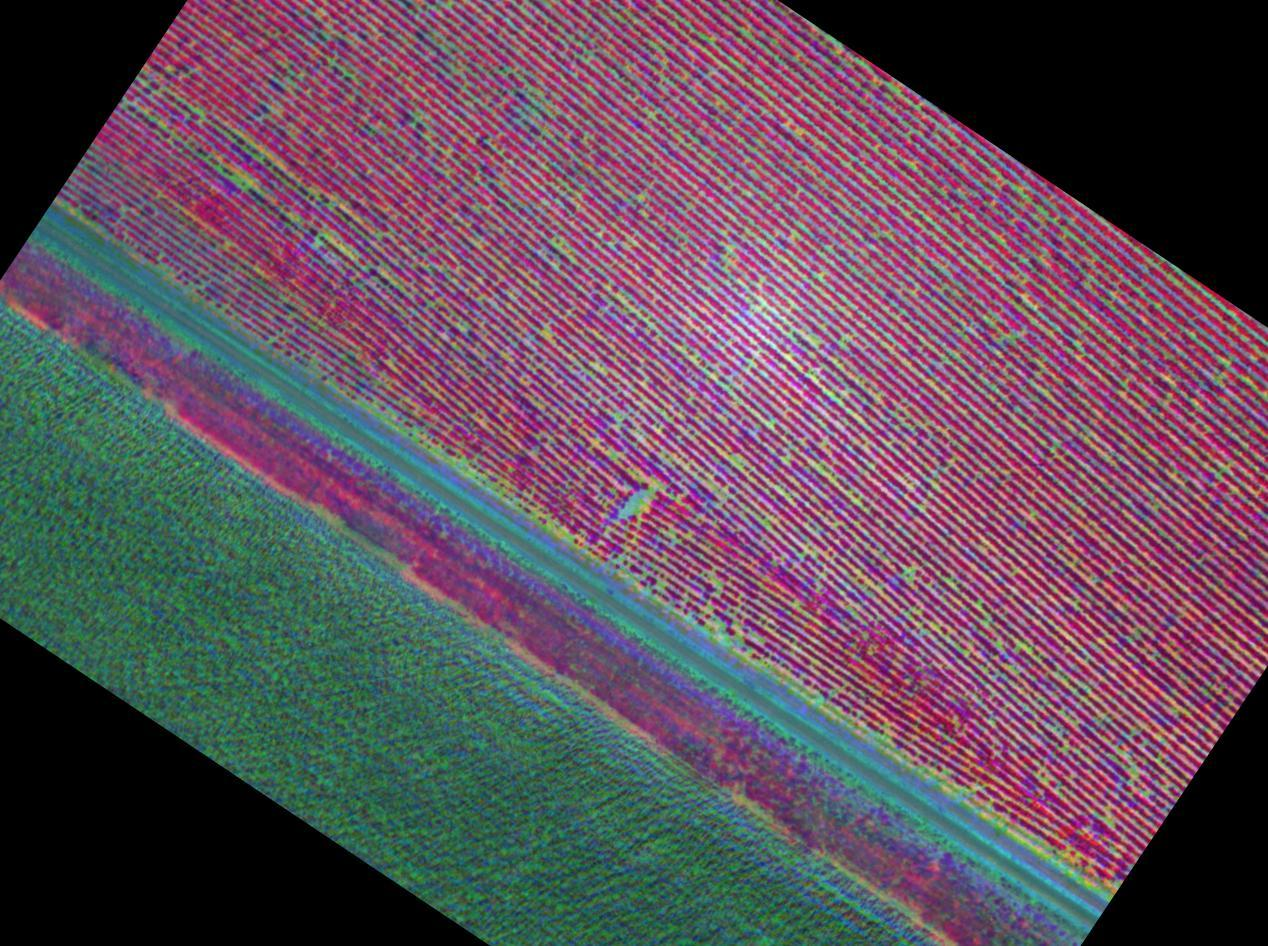dc: (731, 456, 737, 462), (233, 177, 238, 183), (629, 508, 634, 514), (415, 115, 420, 120), (726, 247, 731, 252), (642, 493, 647, 498), (316, 240, 320, 245), (836, 399, 841, 403), (816, 465, 820, 470), (651, 485, 656, 489), (763, 521, 767, 526), (585, 85, 589, 90), (386, 361, 390, 364), (308, 188, 311, 191)
